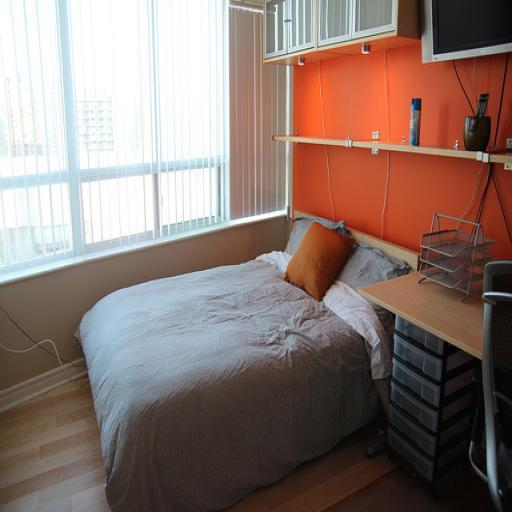bed: (52, 176, 410, 507)
